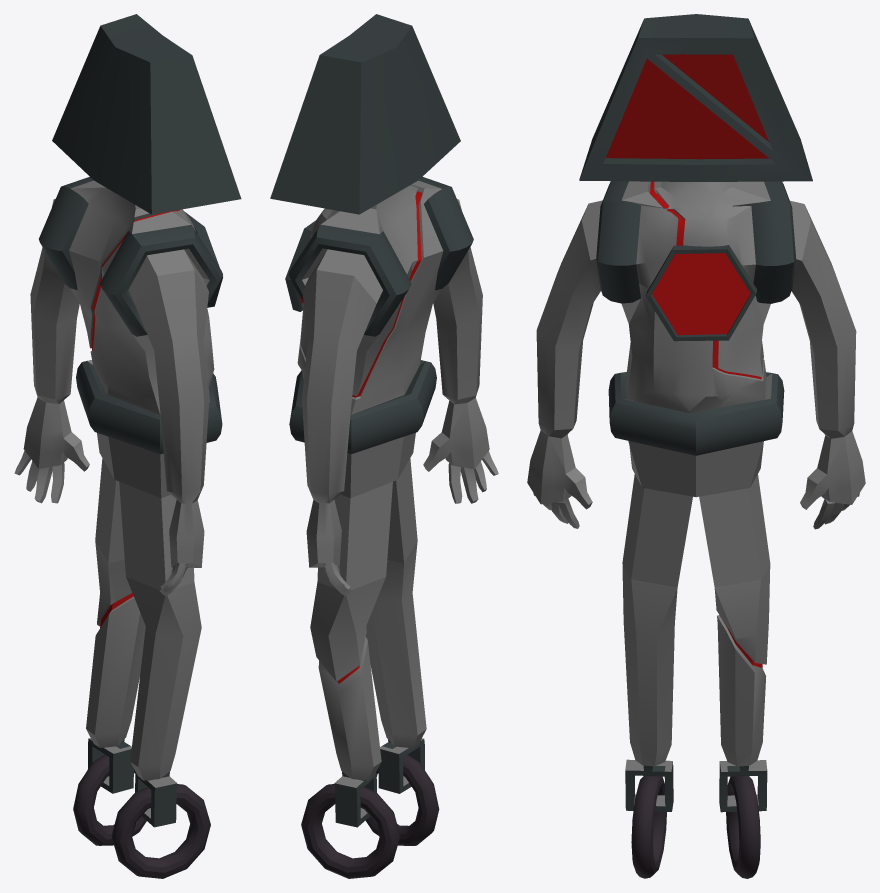
File: hexabot 1.fbx
3 views of the same model, side by side, from view 1: azimuth 30°, elevation 25°; view 2: azimuth 150°, elevation 25°; view 3: azimuth 270°, elevation 25° (orthographic). The views are drawn at different scales.
Parts seen in each view (by area): view 1: Torus.001; view 2: Torus.001; view 3: Torus.001.
Boxes of the visible parts, x1=… form: Torus.001: x1=14, y1=14, x2=241, y2=878; Torus.001: x1=270, y1=14, x2=498, y2=878; Torus.001: x1=527, y1=14, x2=865, y2=878.
Size of the model in its own units: 82.03 by 448 by 162.
